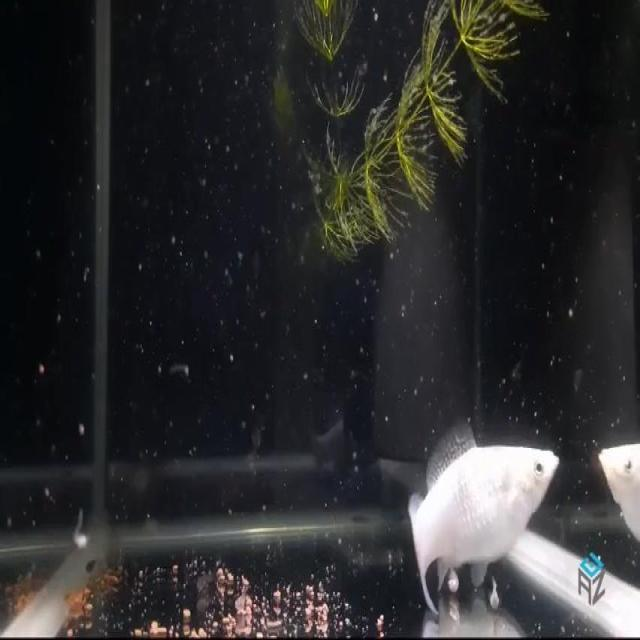PlatyFish: (408, 415, 564, 622)
